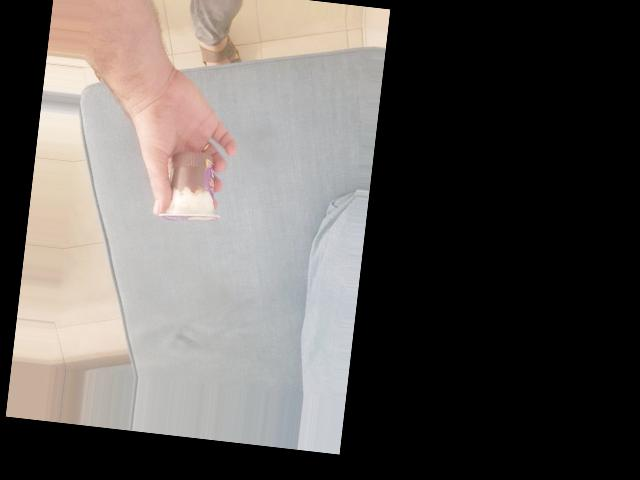milky: (215, 189, 310, 259)
